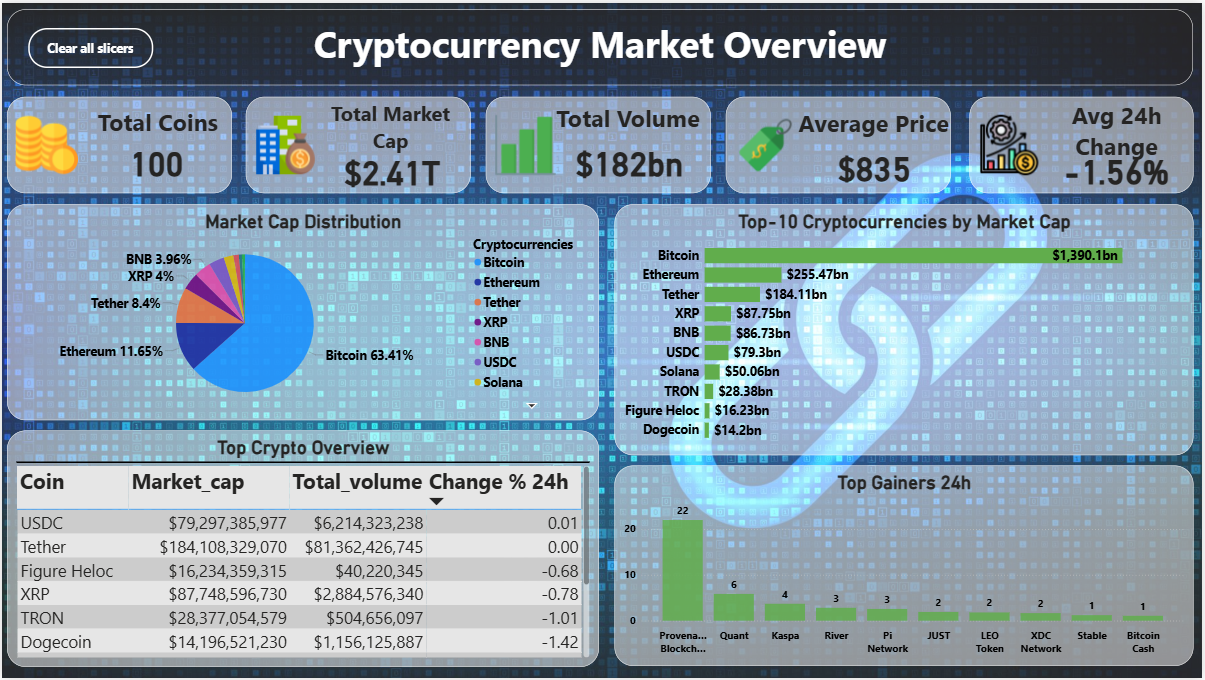

The page's visual inventory and layout, read from the dashboard file:
{"tool":"powerbi","page":{"name":"Market Overview","canvas":[1920,1080],"ordinal":0},"visuals":[{"type":"textbox","box":[8.2,10.3,1897.8,121.4],"z":0},{"type":"actionButton","box":[8.2,150.3,360.2,154.4],"z":1000},{"type":"actionButton","box":[389,150.3,360.2,154.4],"z":2000},{"type":"actionButton","box":[773.9,150.3,360.2,154.4],"z":3000},{"type":"actionButton","box":[1158.8,150.3,360.2,154.4],"z":4000},{"type":"actionButton","box":[1547.9,150.3,358.1,154.4],"z":5000},{"type":"card","fields":{"Values":["All Measures.Total Coins"]},"box":[189.4,214.1,115.3,74.1],"z":6000},{"type":"card","fields":{"Values":["All Measures.Avg 24h Change"]},"box":[1691.9,226.4,181.1,78.2],"z":7000},{"type":"card","fields":{"Values":["All Measures.Avg Price"]},"box":[1321.4,228.5,148.2,63.8],"z":8000},{"type":"card","fields":{"Values":["All Measures.Total Volume"]},"box":[893.3,212,220.2,80.3],"z":9000},{"type":"card","fields":{"Values":["All Measures.Total Market Cap"]},"box":[539.3,228.5,168.8,76.2],"z":10000},{"type":"textbox","box":[129.7,160.5,238.8,67.9],"z":11000},{"type":"textbox","box":[494,150.3,255.2,96.7],"z":12000},{"type":"textbox","box":[870.7,154.4,263.5,82.3],"z":13000},{"type":"textbox","box":[1255.6,162.6,277.9,98.8],"z":14000},{"type":"textbox","box":[1659,148.2,247,127.6],"z":15000},{"type":"clusteredBarChart","title":"Top-10 Cryptocurrencies by Market Cap","fields":{"Category":["CryptoData.name"],"Y":["Sum(CryptoData.market_cap)"]},"box":[979.8,321.1,926.2,401.4],"z":16000},{"type":"pieChart","title":"Market Cap Distribution","fields":{"Category":["CryptoData.name"],"Y":["Sum(CryptoData.market_cap)"]},"box":[8.2,321.1,946.8,345.8],"z":17000},{"type":"clusteredColumnChart","title":"Top Gainers 24h","fields":{"Category":["CryptoData.name"],"Y":["Sum(CryptoData.price_change_percentage_24h_in_currency)"]},"box":[979.8,741,926.2,321.1],"z":18000},{"type":"tableEx","title":"Top Crypto Overview","fields":{"Values":["CryptoData.name","CryptoData.market_cap","CryptoData.total_volume","Sum(CryptoData.price_change_percentage_24h_in_currency)"]},"box":[8.2,683.4,946.8,378.7],"z":19000},{"type":"actionButton","box":[41.2,39.1,199.7,63.8],"z":20000}]}

Visuals, with their boxes in screenshot pixels (x1, y1, x2, y2), scaled from the page's 1920x1080 canvas onto the 1205x680 screenshot:
textbox: <region>5, 6, 1196, 83</region>
actionButton: <region>5, 95, 231, 192</region>
actionButton: <region>244, 95, 470, 192</region>
actionButton: <region>486, 95, 712, 192</region>
actionButton: <region>727, 95, 953, 192</region>
actionButton: <region>971, 95, 1196, 192</region>
card - All Measures.Total Coins: <region>119, 135, 191, 181</region>
card - All Measures.Avg 24h Change: <region>1062, 143, 1176, 192</region>
card - All Measures.Avg Price: <region>829, 144, 922, 184</region>
card - All Measures.Total Volume: <region>561, 133, 699, 184</region>
card - All Measures.Total Market Cap: <region>338, 144, 444, 192</region>
textbox: <region>81, 101, 231, 144</region>
textbox: <region>310, 95, 470, 156</region>
textbox: <region>546, 97, 712, 149</region>
textbox: <region>788, 102, 962, 165</region>
textbox: <region>1041, 93, 1196, 174</region>
"Top-10 Cryptocurrencies by Market Cap" clusteredBarChart: <region>615, 202, 1196, 455</region>
"Market Cap Distribution" pieChart: <region>5, 202, 599, 420</region>
"Top Gainers 24h" clusteredColumnChart: <region>615, 467, 1196, 669</region>
"Top Crypto Overview" tableEx: <region>5, 430, 599, 669</region>
actionButton: <region>26, 25, 151, 65</region>
